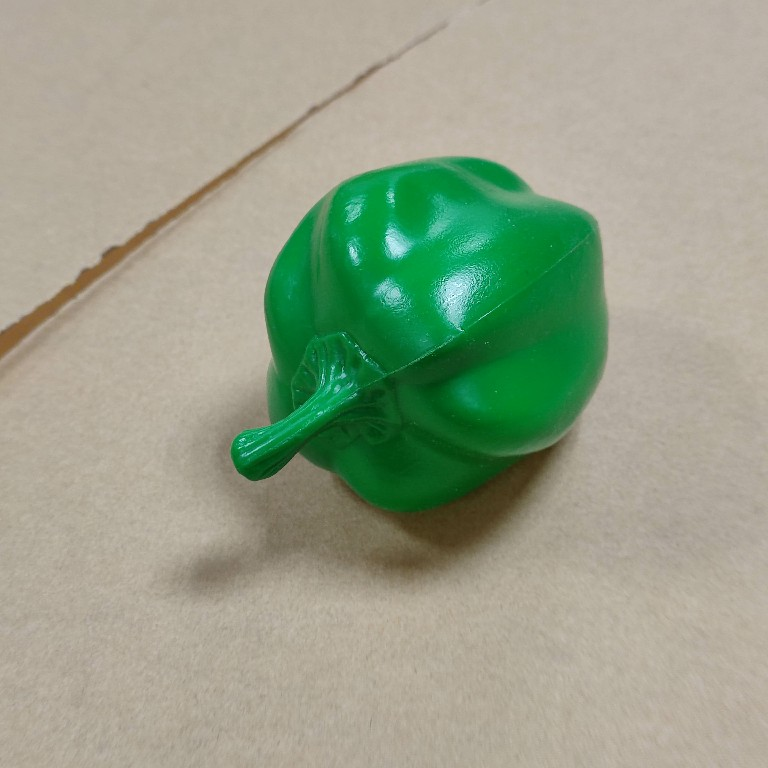fruit_pepper: (229, 153, 614, 522)
